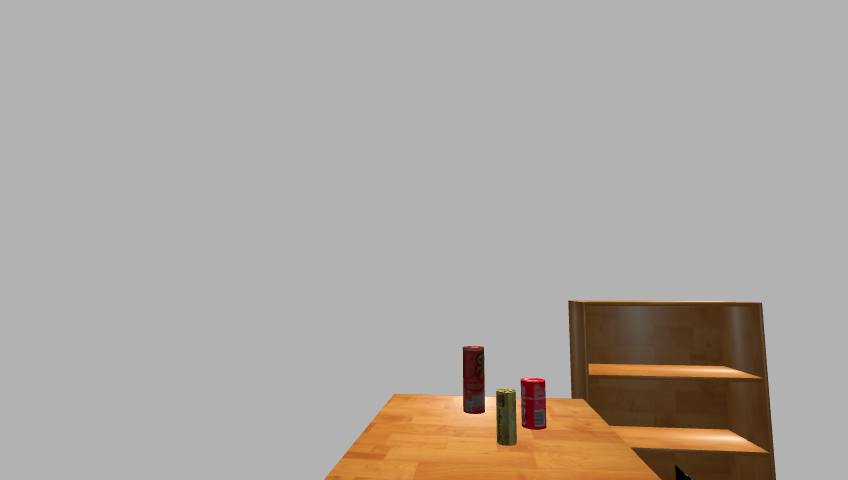aruco marker: (672, 466, 704, 480)
biscuits pack: (496, 388, 518, 446)
bookshelf: (562, 299, 783, 479)
coke can: (520, 377, 548, 430)
dinner table: (315, 392, 676, 480)
pringles can: (460, 345, 486, 415)
